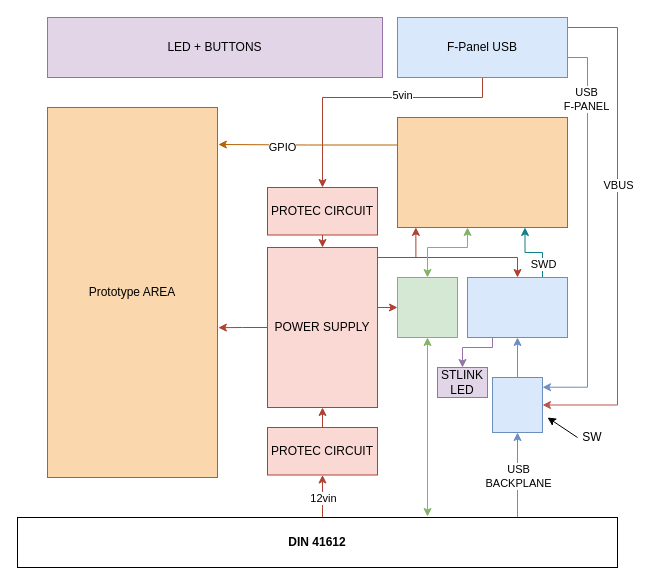
The diagram is 650 pixels wide and 585 high, and some of its shapes have lost their labels. Here are the shapes that lost their labels. From the top down, the centre of each, then its label:
At (482,172): "STM32 F405RE F446RE".
At (427,307): "CAN Transiver".
At (517,307): "STLINK".
At (517,404): "USB MUX".
